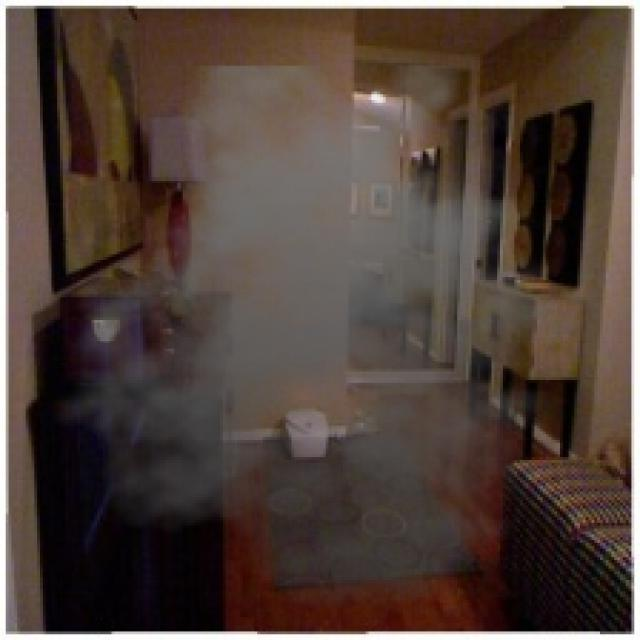Smoke: (51, 66, 614, 612)
